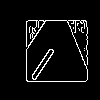I: (28, 38, 63, 83)
